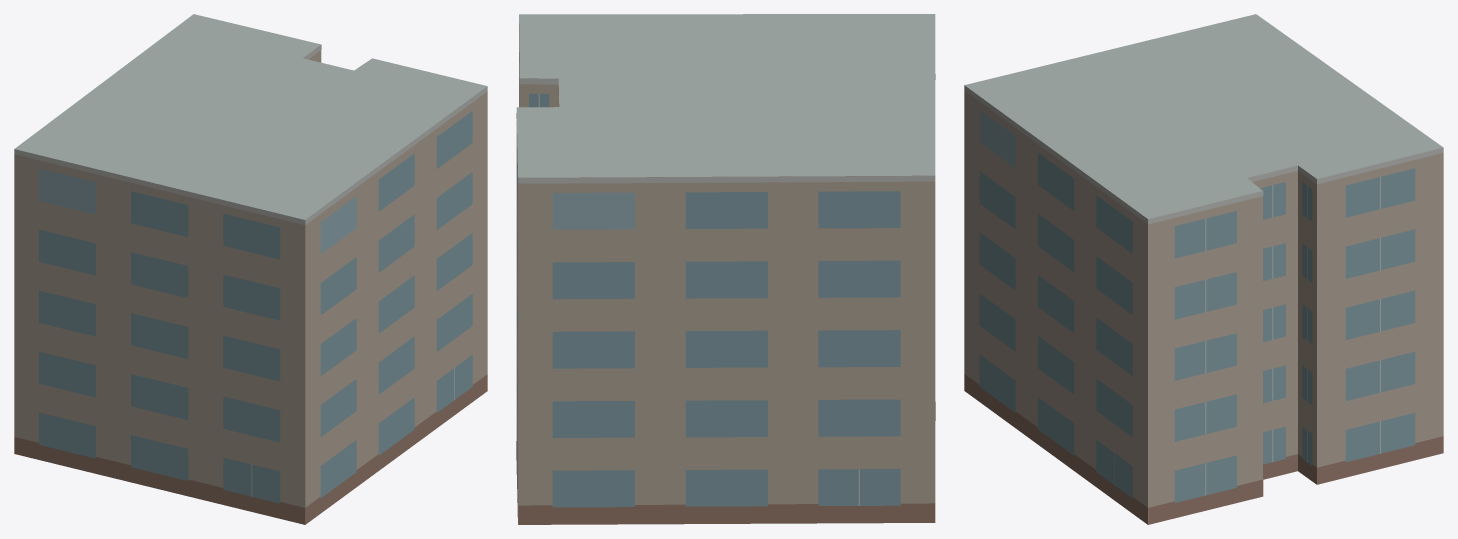
The model's file is survey-upis-32775449.glb.
3 views of the same model, side by side, from view 1: azimuth 30°, elevation 25°; view 2: azimuth 150°, elevation 25°; view 3: azimuth 270°, elevation 25° (orthographic). The views are drawn at different scales.
Parts seen in each view (by area): view 1: survey-upis-32775449.tmp; view 2: survey-upis-32775449.tmp; view 3: survey-upis-32775449.tmp.
Part boxes in pixels (left/top/right/bottom): survey-upis-32775449.tmp: left=14, top=14, right=487, bottom=524; survey-upis-32775449.tmp: left=516, top=14, right=935, bottom=524; survey-upis-32775449.tmp: left=964, top=14, right=1443, bottom=524.
Bounding box in the file's own units: 20.45 × 14.2 × 20.18.
